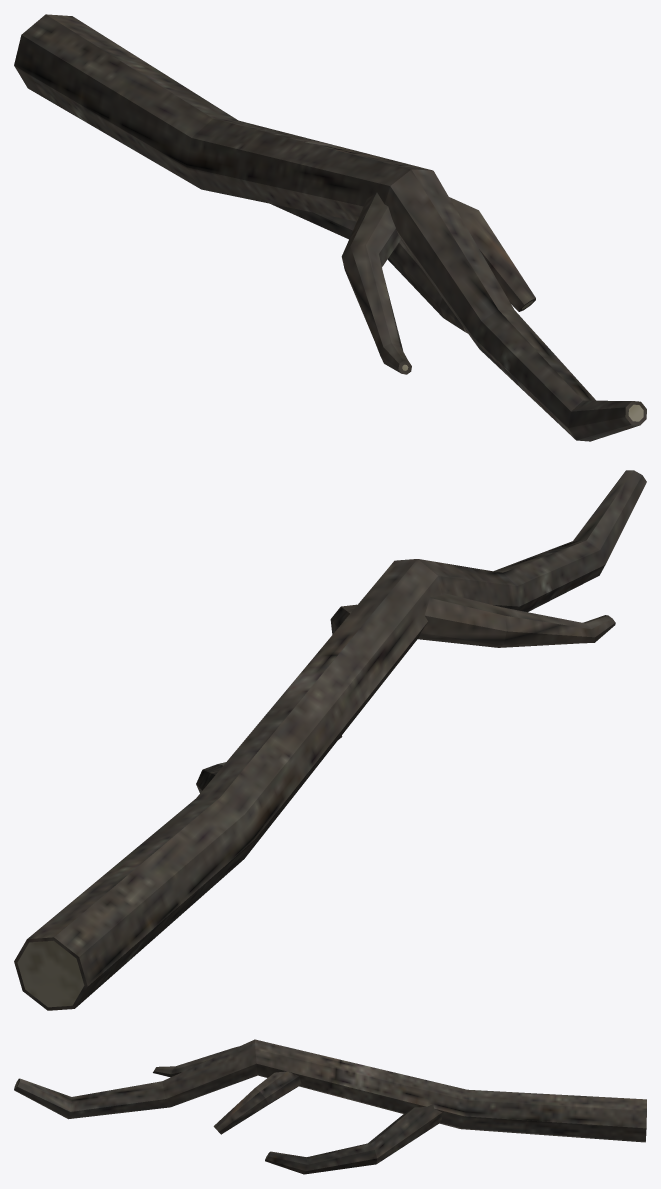
File: deadWood_001.fbx
3 renders of one model, top to bottom at view 1: azimuth 30°, elevation 25°; view 2: azimuth 150°, elevation 25°; view 3: azimuth 270°, elevation 25°, orthographic. The views are drawn at different scales.
Parts seen in each view (by area): view 1: deadWood.001; view 2: deadWood.001; view 3: deadWood.001.
Boxes of the visible parts, x1,y1,x2,y2 form: deadWood.001: [14, 14, 646, 441]; deadWood.001: [14, 470, 646, 1010]; deadWood.001: [14, 1039, 646, 1174].
Bounding box in the file's own units: 281 × 259 × 1342.
2 materials, 2 textured.
